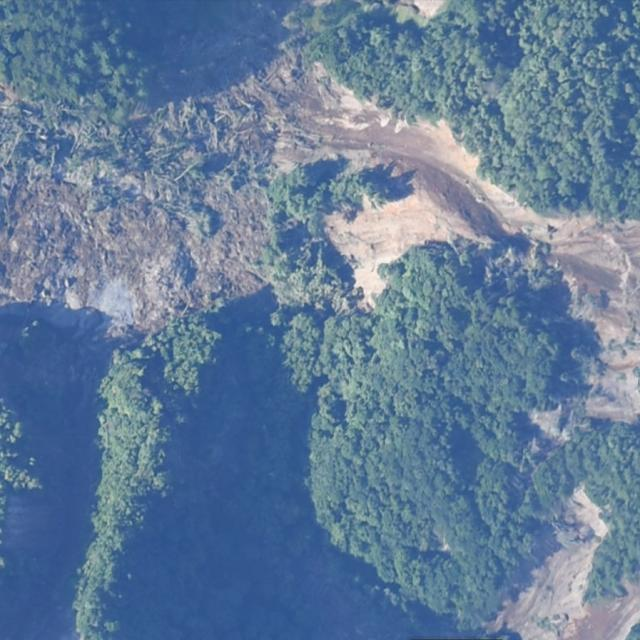landslide: (0, 49, 640, 424), (487, 488, 640, 640)
